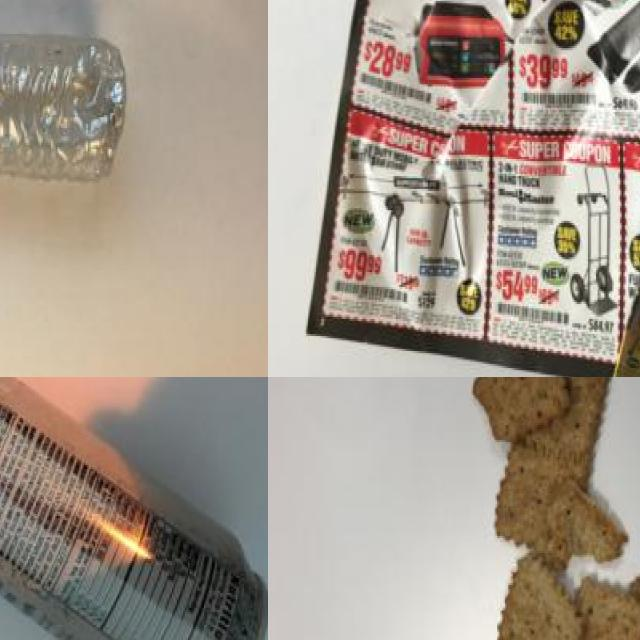compost: (463, 377, 640, 640)
paper: (338, 0, 640, 358)
plastic: (0, 377, 268, 640), (0, 6, 130, 204)
